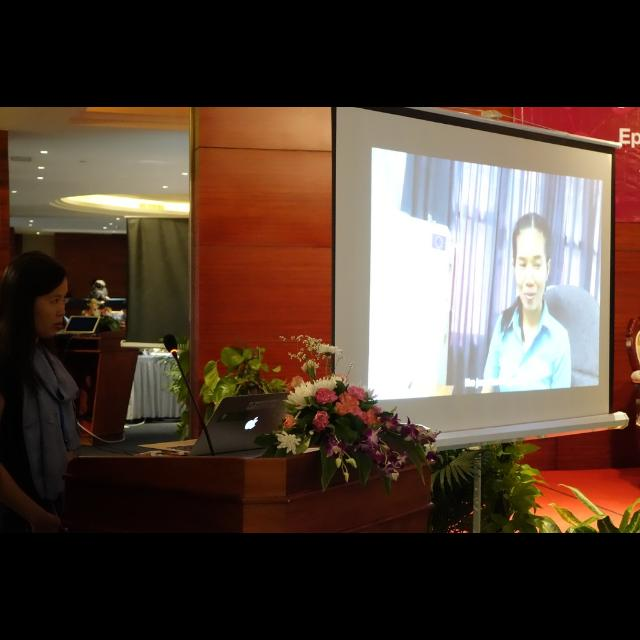Flower: (326, 410, 440, 482), (284, 374, 342, 412), (333, 384, 382, 418), (277, 433, 299, 455), (312, 414, 330, 434), (315, 344, 343, 356), (314, 392, 336, 404), (282, 416, 298, 432), (302, 360, 320, 372)
